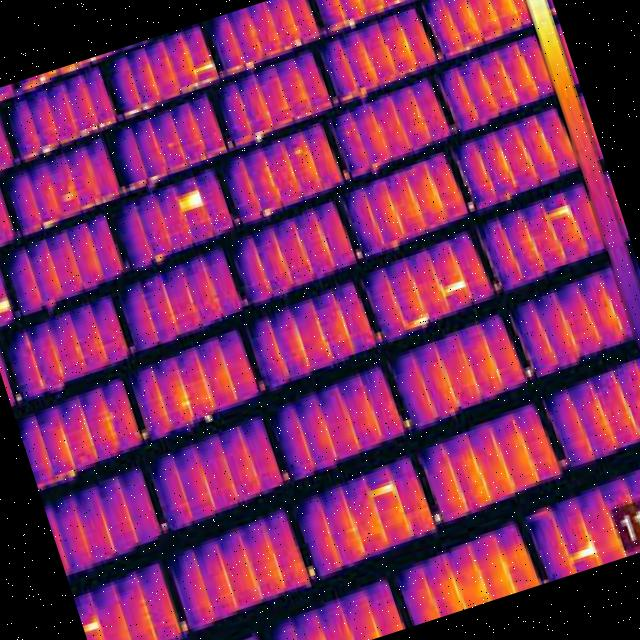Hotspot: (170, 180, 208, 220), (168, 382, 198, 421), (564, 537, 601, 567), (438, 270, 472, 300), (404, 309, 438, 338), (366, 474, 401, 502), (54, 174, 82, 207), (538, 202, 574, 225), (38, 212, 64, 235), (0, 292, 19, 322), (257, 200, 280, 221), (192, 59, 218, 76), (82, 616, 104, 636)
